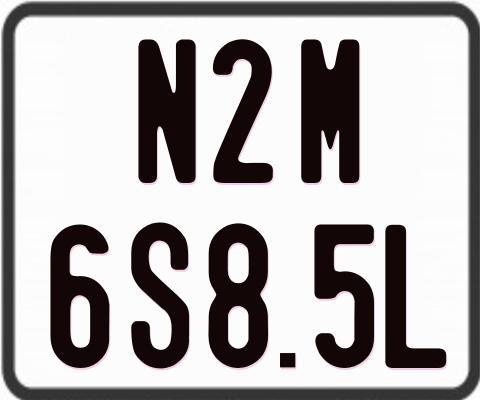2: (213, 36, 275, 183)
5: (313, 223, 373, 370)
6: (47, 223, 108, 369)
8: (205, 221, 266, 369)
L: (384, 222, 447, 365)
M: (300, 37, 359, 187)
N: (136, 38, 200, 185)
S: (131, 219, 190, 369)
